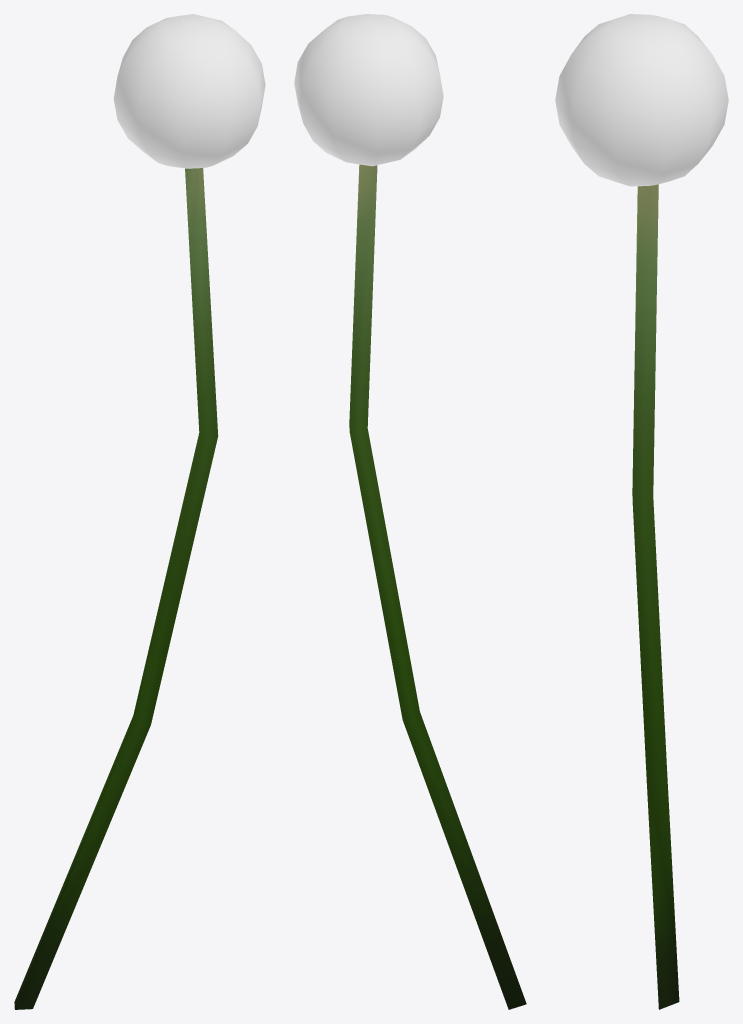
The model's file is Flower1.glb.
3 renders of one model, left to right at view 1: azimuth 30°, elevation 25°; view 2: azimuth 150°, elevation 25°; view 3: azimuth 270°, elevation 25°, orthographic. The views are drawn at different scales.
Visible parts, largest first — view 1: Dandelion_Flowers_0; view 2: Dandelion_Flowers_0; view 3: Dandelion_Flowers_0.
Boxes of the visible parts, x1,y1,x2,y2 form: Dandelion_Flowers_0: [14, 14, 265, 1009]; Dandelion_Flowers_0: [294, 14, 526, 1009]; Dandelion_Flowers_0: [555, 14, 728, 1009].
Bounding box in the file's own units: 0.0302 × 0.1189 × 0.0175.
2 materials, 1 textured.
